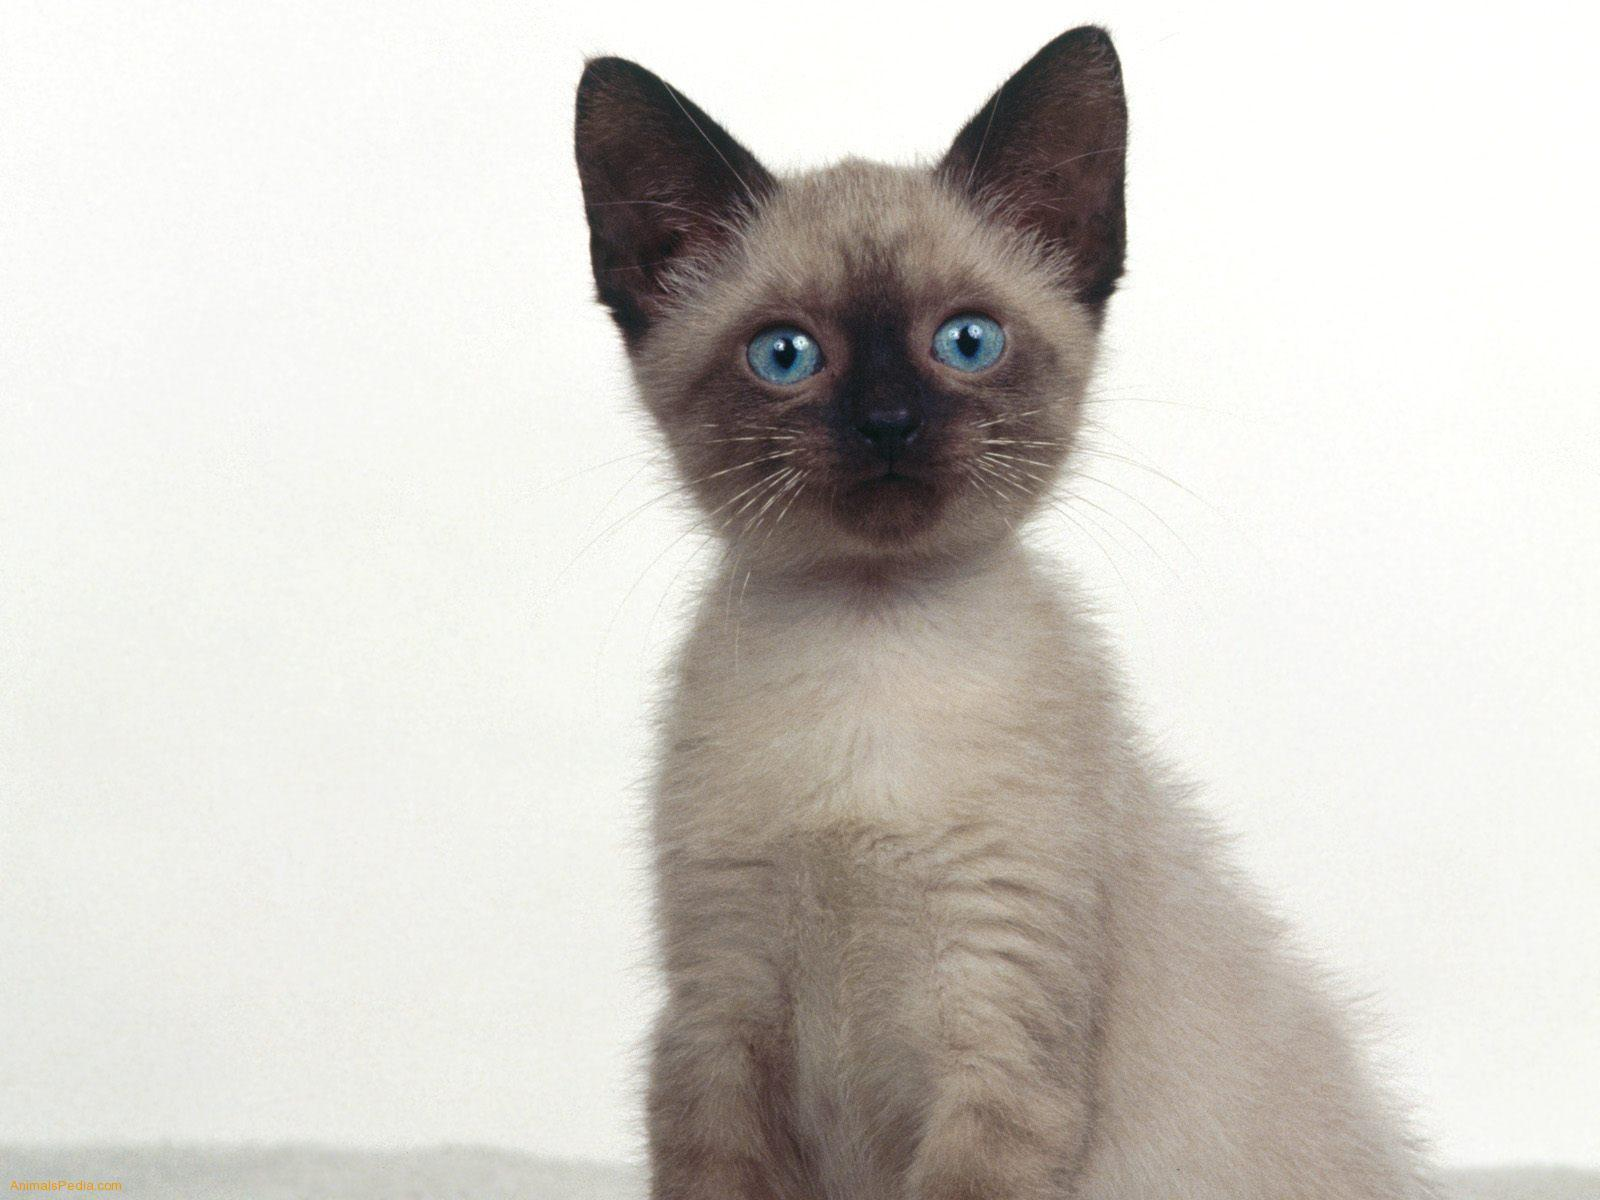siamese: (556, 21, 1146, 599)
